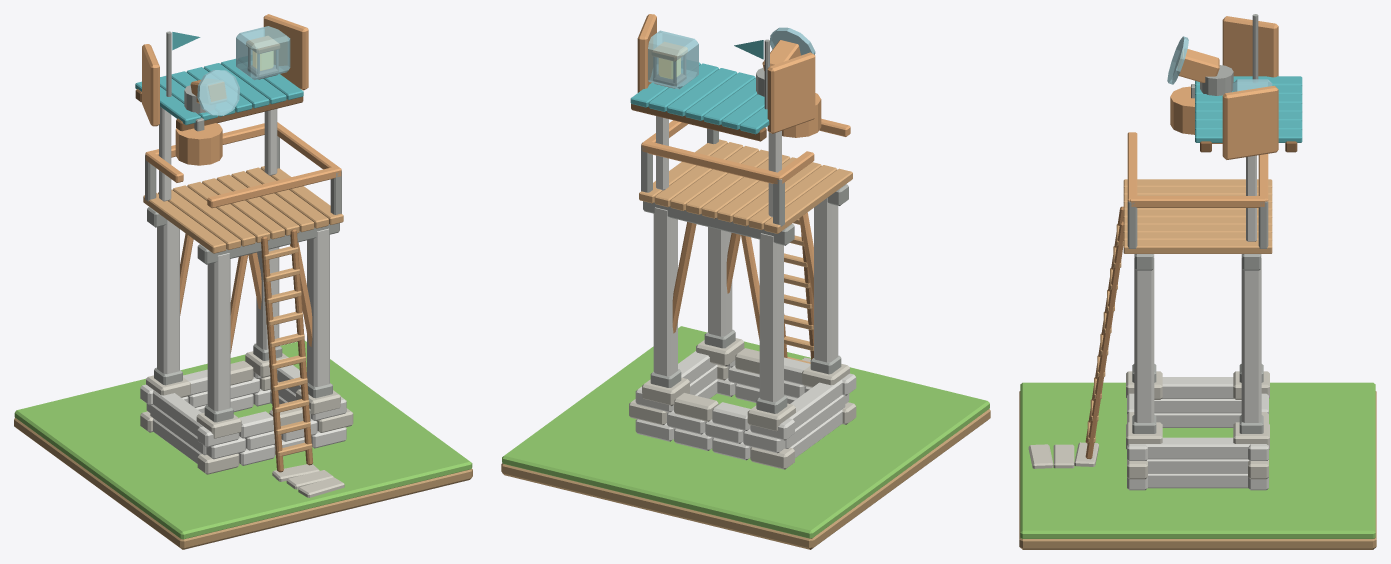
The model's file is tower_l04_active.glb.
3 views of the same model, side by side, from view 1: azimuth 30°, elevation 25°; view 2: azimuth 150°, elevation 25°; view 3: azimuth 270°, elevation 25° (orthographic). The views are drawn at different scales.
Parts seen in each view (by area): view 1: tower_l04_grass_tile, tower_l04_earth_tile, post_-0.61_-0.54, post_-0.61_0.54, post_0.61_-0.54, signal_lantern_guard, reflector_1, bell, balcony_rail_-0.66, telescope_lens, ladder_rail_-0.18, deck_board_0 (+32 smaller); view 2: tower_l04_grass_tile, tower_l04_earth_tile, post_-0.61_0.54, post_-0.61_-0.54, post_0.61_0.54, reflector_-1, signal_lantern_guard, post_0.61_-0.54, balcony_rail_0.66, deck_board_0, deck_bearer_0.54, stone_return_2_-0.72 (+39 smaller); view 3: tower_l04_grass_tile, tower_l04_earth_tile, reflector_1, post_0.61_0.54, post_0.61_-0.54, reflector_-1, stone_return_2_0.72, deck_board_8, stone_return_0_0.72, ladder_rail_0.18, balcony_side_rail, stone_return_2_-0.72 (+29 smaller).
Boxes of the visible parts, x1,y1,x2,y2 form: tower_l04_grass_tile: (14,340,472,539); tower_l04_earth_tile: (14,417,472,549); post_-0.61_-0.54: (207,253,230,411); post_-0.61_0.54: (157,220,179,374); post_0.61_-0.54: (307,228,329,386); signal_lantern_guard: (236,26,290,80); reflector_1: (263,14,308,90); bell: (175,123,222,165); balcony_rail_-0.66: (207,166,341,208); telescope_lens: (197,70,239,115); ladder_rail_-0.18: (261,236,283,472); deck_board_0: (143,193,226,253); tower_l04_grass_tile: (502,326,989,538); tower_l04_earth_tile: (501,409,990,549); post_-0.61_0.54: (759,233,783,401); post_-0.61_-0.54: (814,198,838,362); post_0.61_0.54: (653,207,677,376); reflector_-1: (767,52,815,133); signal_lantern_guard: (648,30,698,89); post_0.61_-0.54: (708,227,732,336); balcony_rail_0.66: (641,140,781,184); deck_board_0: (764,168,852,233); deck_bearer_0.54: (643,201,794,245); stone_return_2_-0.72: (787,378,842,428); tower_l04_grass_tile: (1020,382,1375,538); tower_l04_earth_tile: (1019,391,1376,549); reflector_1: (1222,85,1278,159); post_0.61_0.54: (1241,254,1261,422); post_0.61_-0.54: (1134,254,1154,422); reflector_-1: (1222,16,1278,77); stone_return_2_0.72: (1145,437,1250,459); deck_board_8: (1123,240,1272,253); stone_return_0_0.72: (1148,473,1247,488); ladder_rail_0.18: (1085,221,1123,459); balcony_side_rail: (1130,196,1265,207); stone_return_2_-0.72: (1161,377,1234,398).
Size of the model in its own units: 3.6 by 4.85 by 3.6.
